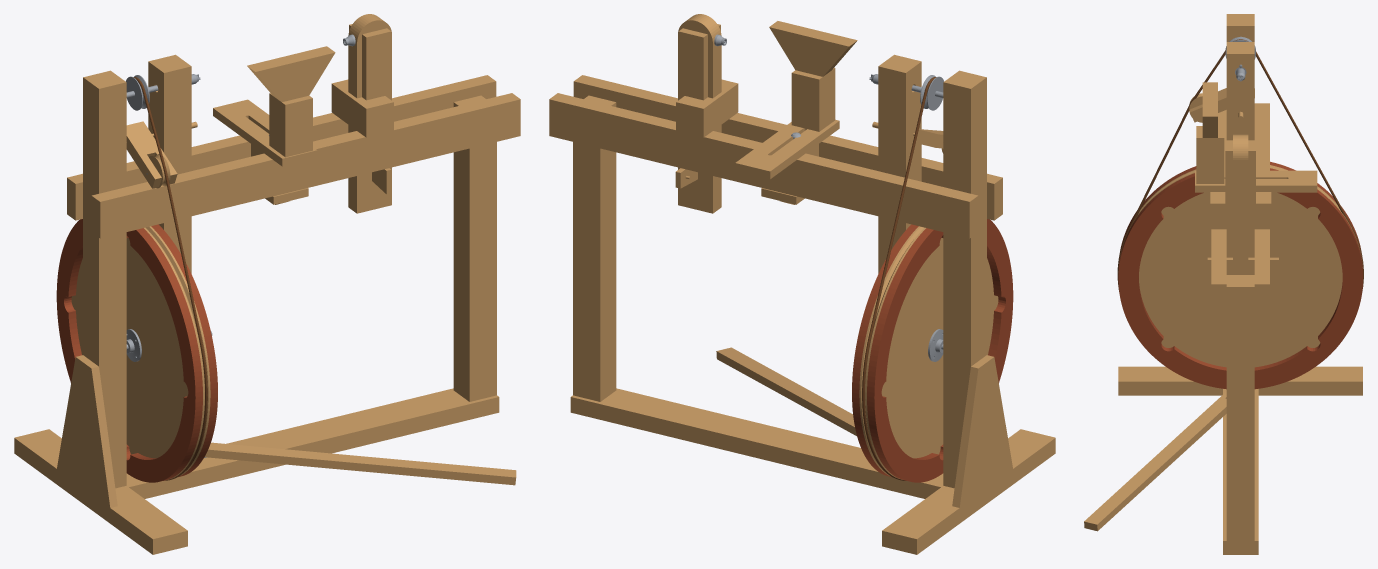
The picture shows the model from 3 angles, left to right: view 1: azimuth 30°, elevation 25°; view 2: azimuth 150°, elevation 25°; view 3: azimuth 270°, elevation 25°; orthographic projection. The views are drawn at different scales.
Parts seen in each view (by area): view 1: Frame_Way, Frame_Headstock_Upright, Frame_Tail_Upright, Frame_Base, Flywheel___Treadle_Wheel_Board__Long_1, Frame_Headstock_End_Brace, Frame_Way_1, Frame_Stabilizer, Frame_Headstock_Upright_1, Flywheel___Treadle_Treadle, Flywheel___Treadle_Rim_Section_5, Tool_Rest_Tool_Rest_Top (+13 smaller); view 2: Frame_Way_1, Frame_Headstock_Upright, Frame_Base, Frame_Tail_Upright, Flywheel___Treadle_Wheel_Board__Long, Frame_Way, Frame_Headstock_Upright_1, Frame_Headstock_End_Brace, Frame_Stabilizer, Flywheel___Treadle_Rim_Section_6, Tailstock_Tailstock, Tool_Rest_Tool_Rest_Top (+12 smaller); view 3: Flywheel___Treadle_Wheel_Board__Long_1, Frame_Tail_Upright, Flywheel___Treadle_Wheel_Board__Long, Frame_Stabilizer, Flywheel___Treadle_Rim_Section, Flywheel___Treadle_Rim_Section_2, Flywheel___Treadle_Rim_Section_1, Flywheel___Treadle_Treadle, Frame_Headstock_Upright_1, Flywheel___Treadle_Wheel_Board__Short, Flywheel___Treadle_Wheel_Board__Short_1, Frame_Way_1 (+14 smaller).
Part boxes in pixels (x1,y1,x2,y2): Frame_Way: (91, 93, 520, 238); Frame_Headstock_Upright: (83, 70, 126, 488); Frame_Tail_Upright: (453, 95, 496, 401); Frame_Base: (73, 388, 499, 503); Flywheel___Treadle_Wheel_Board__Long_1: (133, 226, 182, 479); Frame_Headstock_End_Brace: (57, 355, 117, 507); Frame_Way_1: (67, 75, 496, 220); Frame_Stabilizer: (14, 429, 187, 554); Frame_Headstock_Upright_1: (148, 54, 191, 273); Flywheel___Treadle_Treadle: (204, 442, 516, 485); Flywheel___Treadle_Rim_Section_5: (126, 228, 202, 397); Tool_Rest_Tool_Rest_Top: (247, 46, 335, 101); Frame_Way_1: (549, 93, 978, 238); Frame_Headstock_Upright: (943, 70, 986, 488); Frame_Base: (570, 388, 996, 503); Frame_Tail_Upright: (573, 95, 616, 401); Flywheel___Treadle_Wheel_Board__Long: (887, 226, 936, 479); Frame_Way: (573, 75, 1002, 220); Frame_Headstock_Upright_1: (878, 54, 921, 273); Frame_Headstock_End_Brace: (952, 355, 1012, 507); Frame_Stabilizer: (882, 429, 1055, 554); Flywheel___Treadle_Rim_Section_6: (867, 228, 943, 397); Tailstock_Tailstock: (678, 14, 721, 213); Tool_Rest_Tool_Rest_Top: (769, 21, 857, 76); Flywheel___Treadle_Wheel_Board__Long_1: (1167, 169, 1226, 367); Frame_Tail_Upright: (1226, 275, 1254, 540); Flywheel___Treadle_Wheel_Board__Long: (1254, 165, 1314, 367); Frame_Stabilizer: (1118, 366, 1362, 395); Flywheel___Treadle_Rim_Section: (1118, 198, 1163, 357); Flywheel___Treadle_Rim_Section_2: (1318, 198, 1362, 357); Flywheel___Treadle_Rim_Section_1: (1154, 346, 1326, 389); Flywheel___Treadle_Treadle: (1084, 392, 1226, 531); Frame_Headstock_Upright_1: (1226, 42, 1254, 257); Flywheel___Treadle_Wheel_Board__Short: (1314, 186, 1362, 347); Flywheel___Treadle_Wheel_Board__Short_1: (1118, 184, 1166, 347); Frame_Way_1: (1254, 103, 1269, 316).
Size of the model in its own units: 42 by 40 by 27.45.
